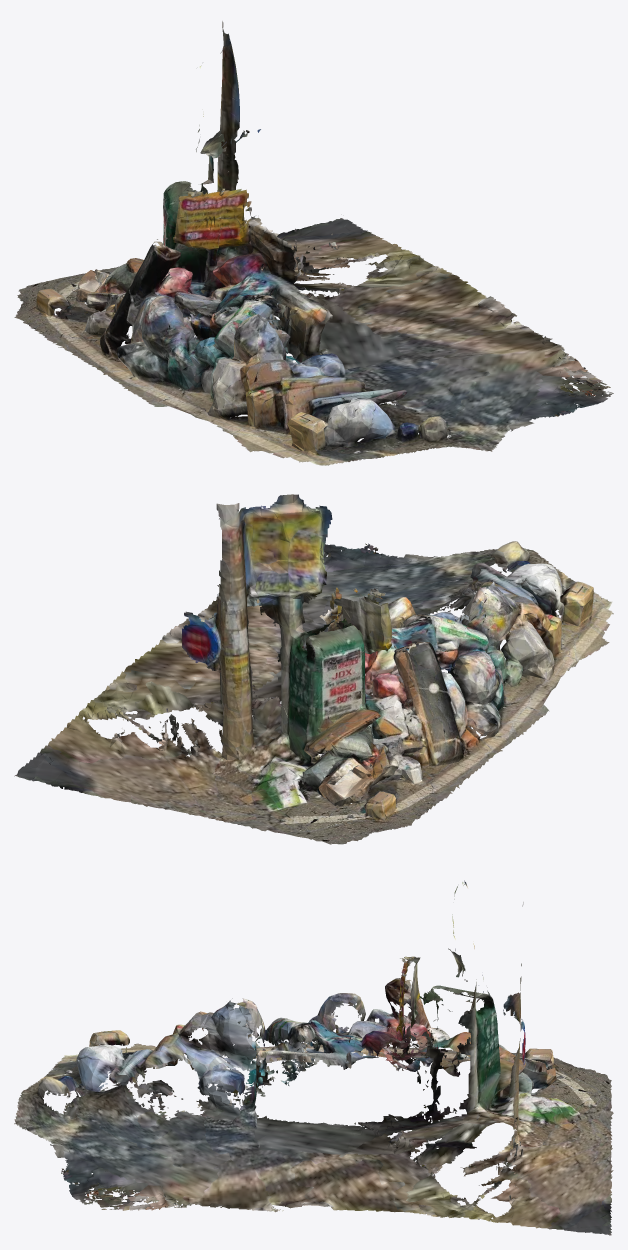
The model's file is trashes-korea.glb.
The picture shows the model from 3 angles, top to bottom: view 1: azimuth 30°, elevation 25°; view 2: azimuth 150°, elevation 25°; view 3: azimuth 270°, elevation 25°; orthographic projection. The views are drawn at different scales.
Visible parts, largest first — view 1: Node; view 2: Node; view 3: Node.
Part boxes in pixels (left/top/right/bottom): Node: left=14, top=21, right=613, bottom=465; Node: left=14, top=494, right=613, bottom=844; Node: left=14, top=880, right=613, bottom=1235.
Bounding box in the file's own units: 4.83 × 3.48 × 7.17.
Materials: 1 (1 with a texture image).
